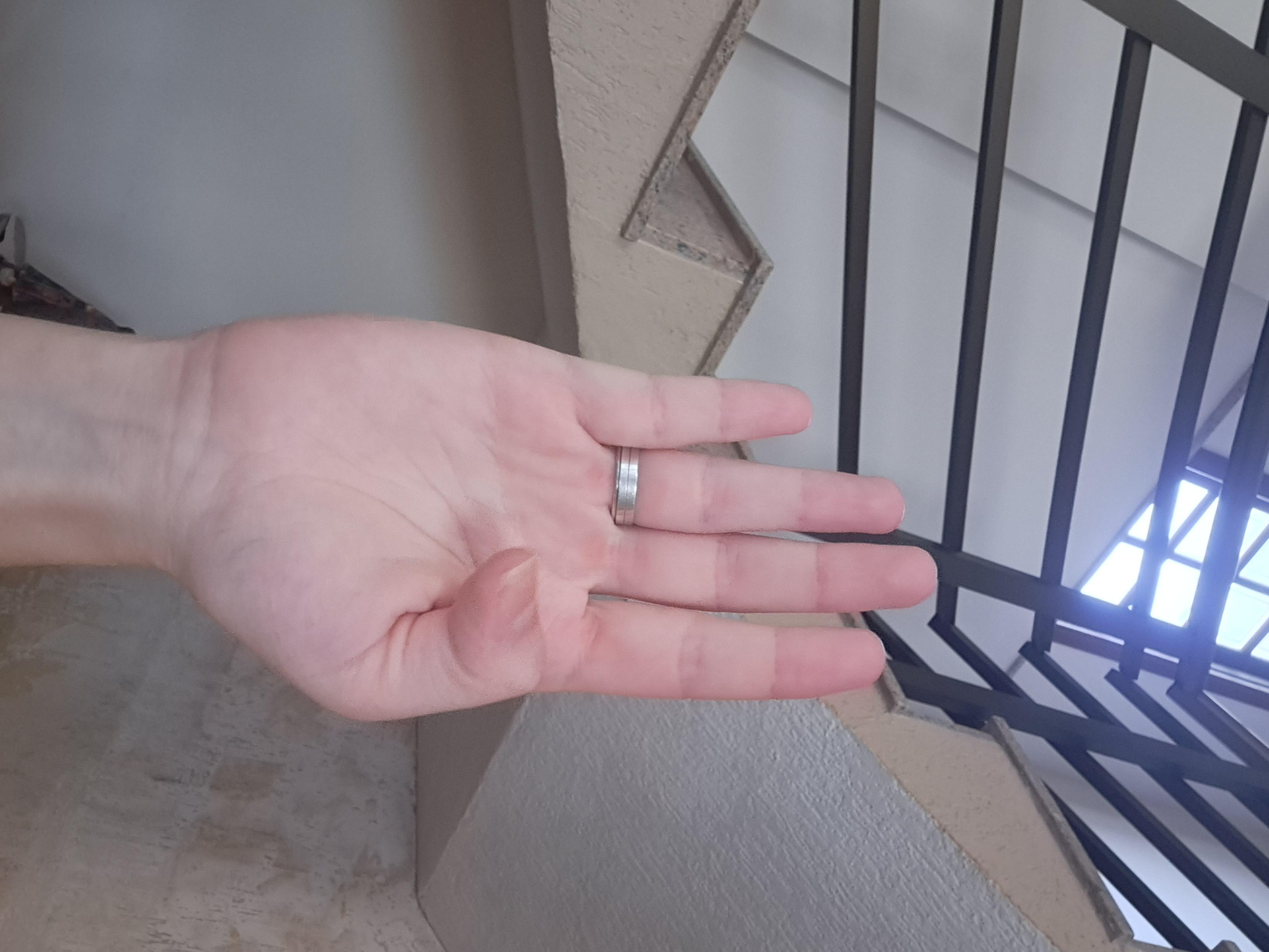B: (410, 239, 975, 790)
